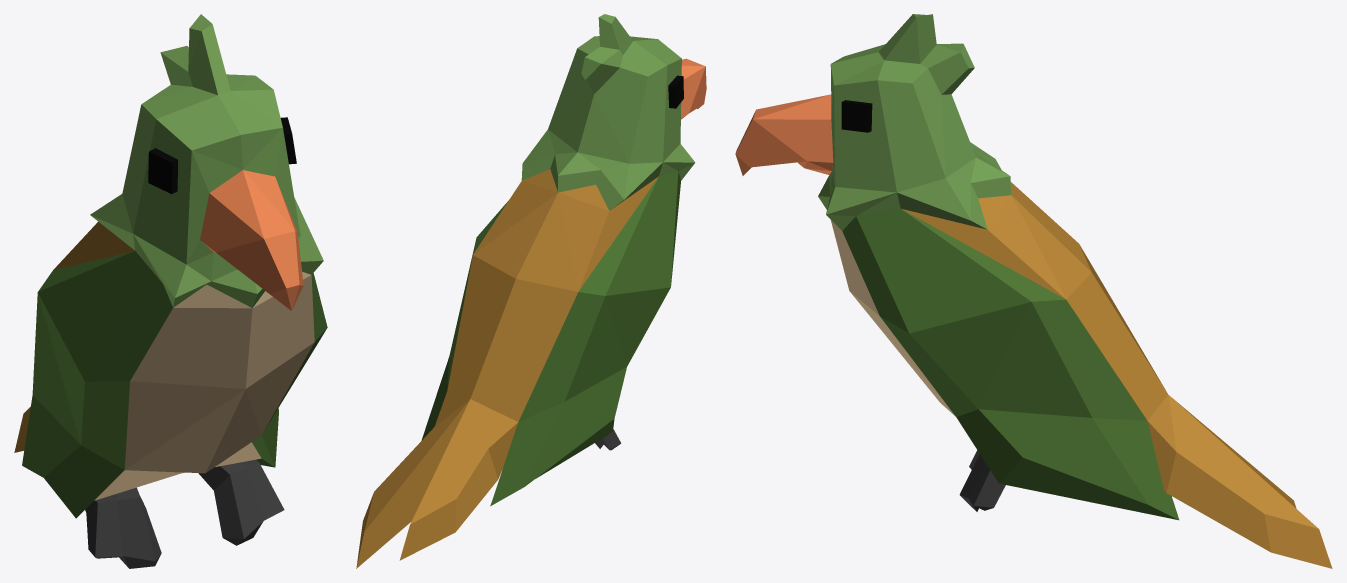
Rendered from SM_Prop_Pet_Parrot_01.fbx.
3 renders of one model, left to right at view 1: azimuth 30°, elevation 25°; view 2: azimuth 150°, elevation 25°; view 3: azimuth 270°, elevation 25°, orthographic. The views are drawn at different scales.
Visible parts, largest first — view 1: SM_Prop_Pet_Parrot_01; view 2: SM_Prop_Pet_Parrot_01; view 3: SM_Prop_Pet_Parrot_01.
Boxes of the visible parts, x1=… form: SM_Prop_Pet_Parrot_01: x1=14, y1=14, x2=327, y2=568; SM_Prop_Pet_Parrot_01: x1=356, y1=14, x2=706, y2=568; SM_Prop_Pet_Parrot_01: x1=735, y1=14, x2=1332, y2=568.
Bounding box in the file's own units: 12.52 × 30.85 × 32.42.
